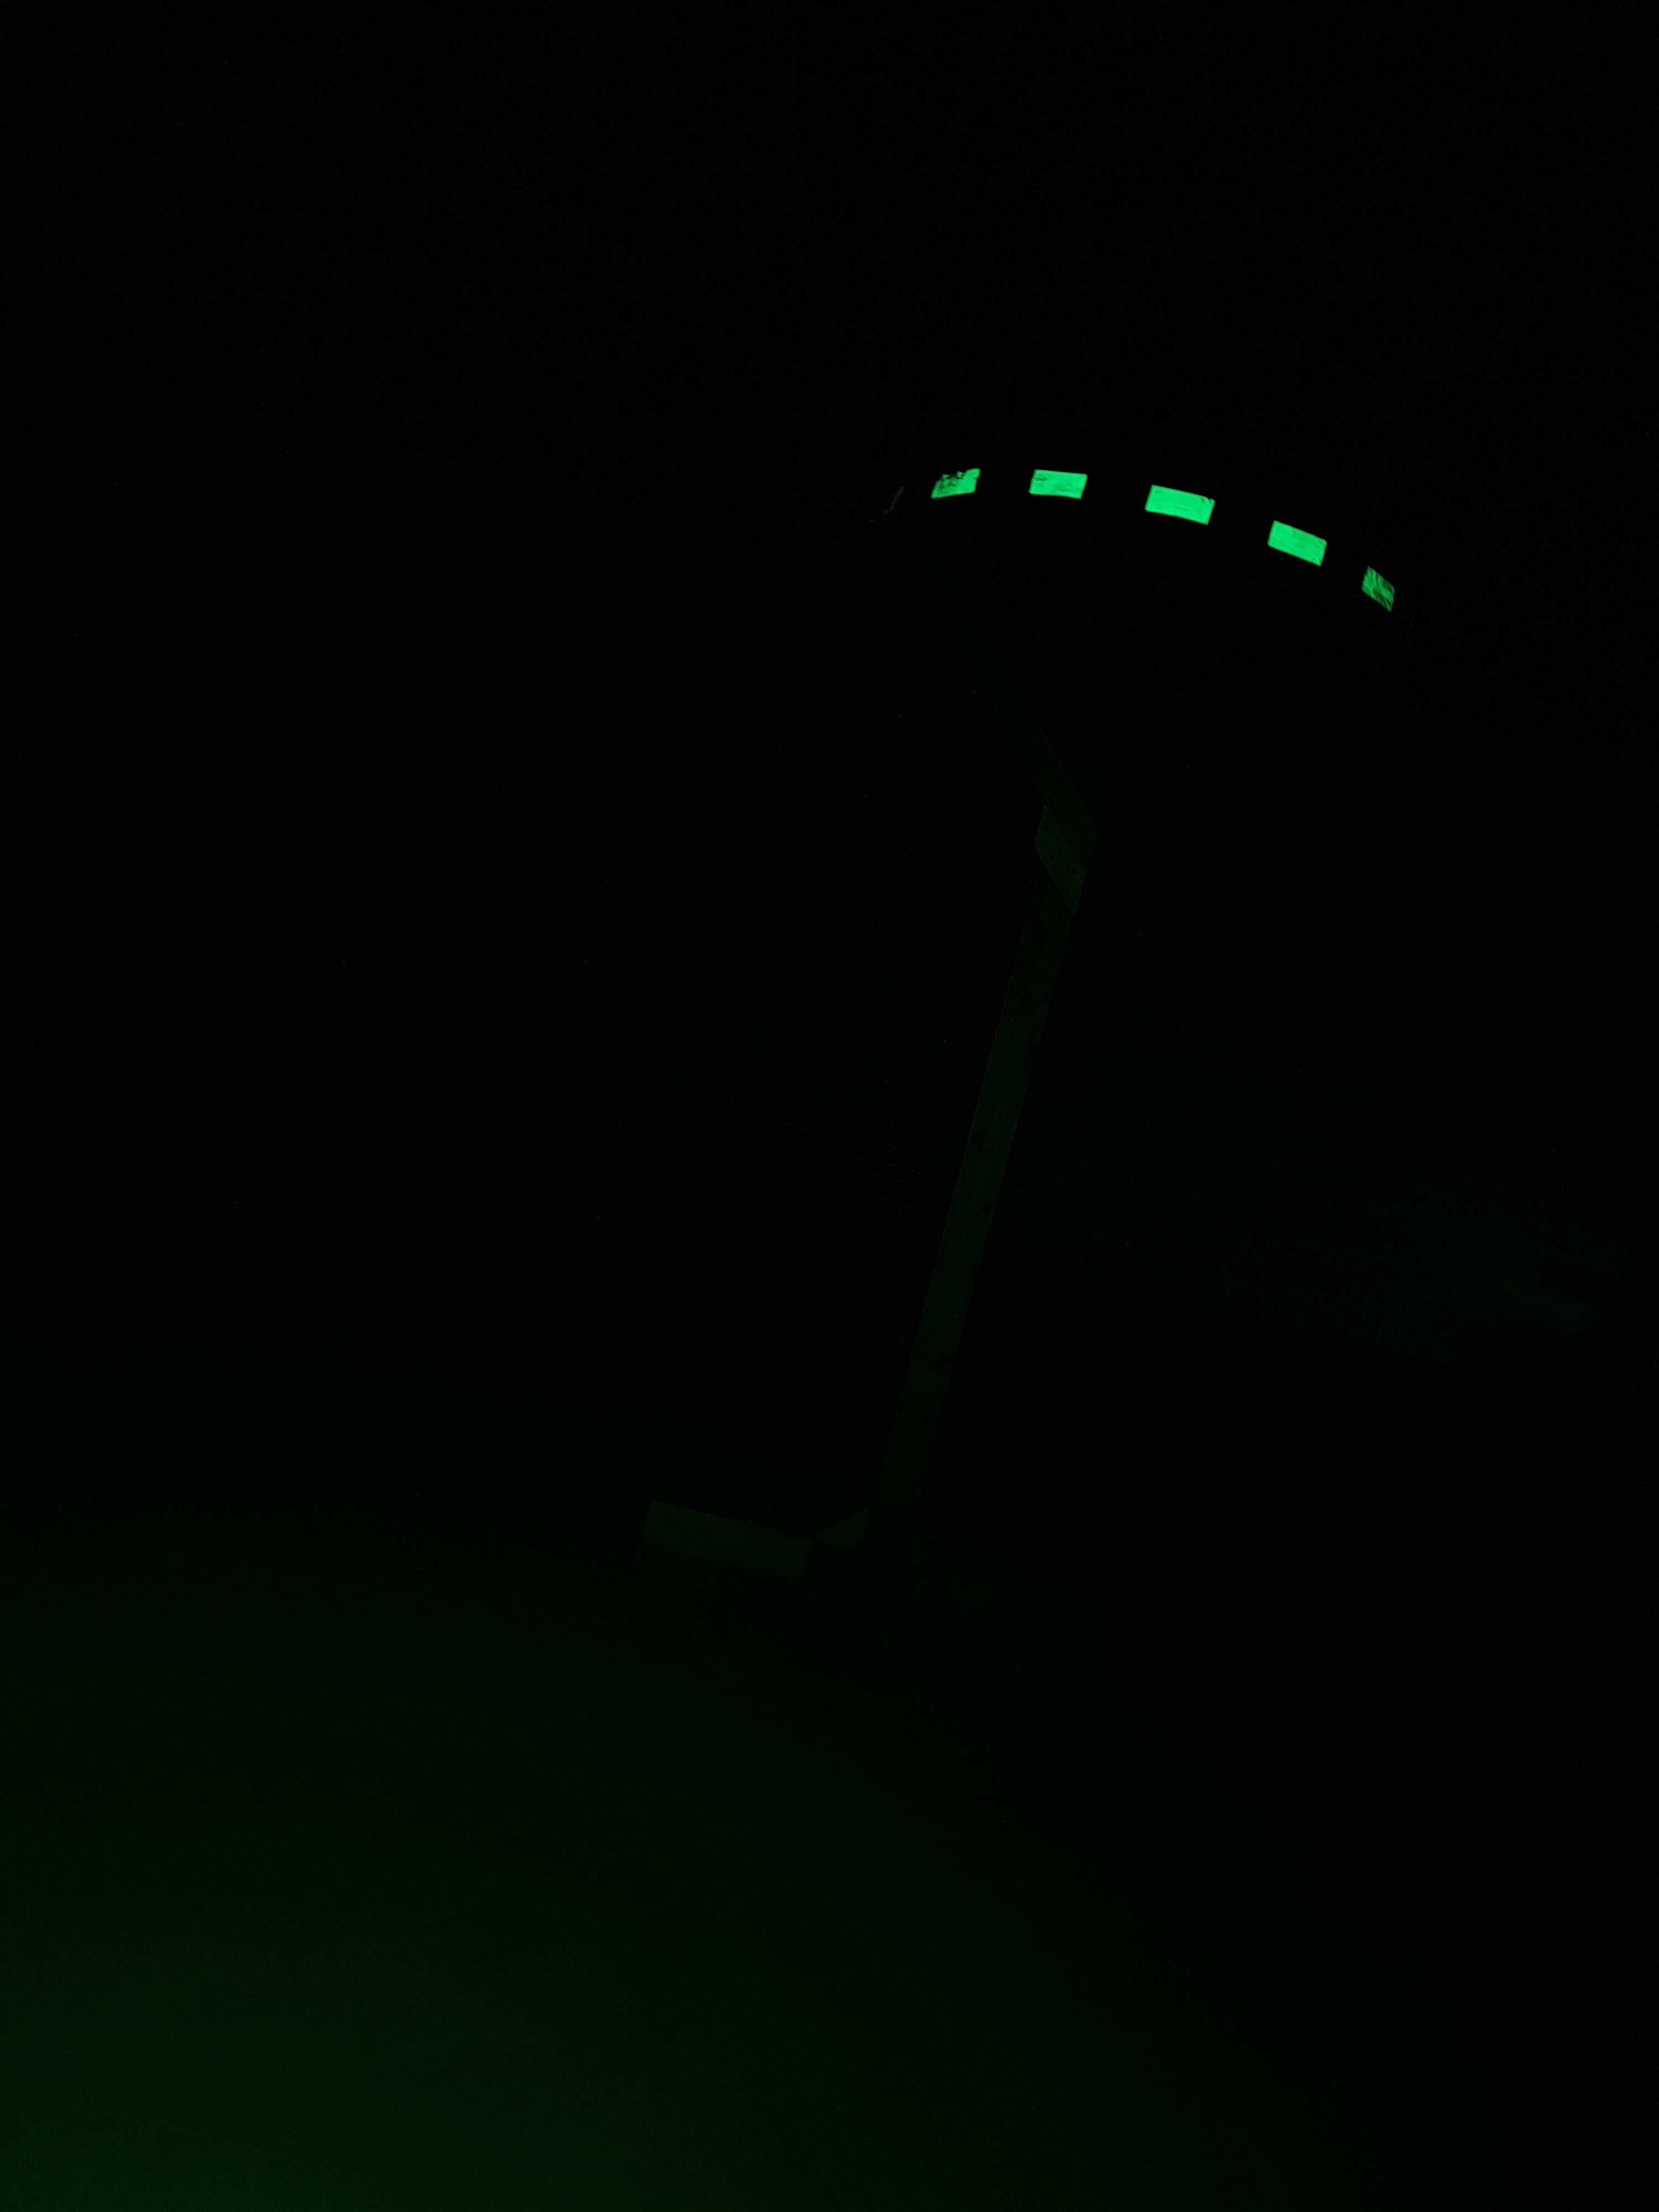hoop: (925, 460, 1396, 613)
